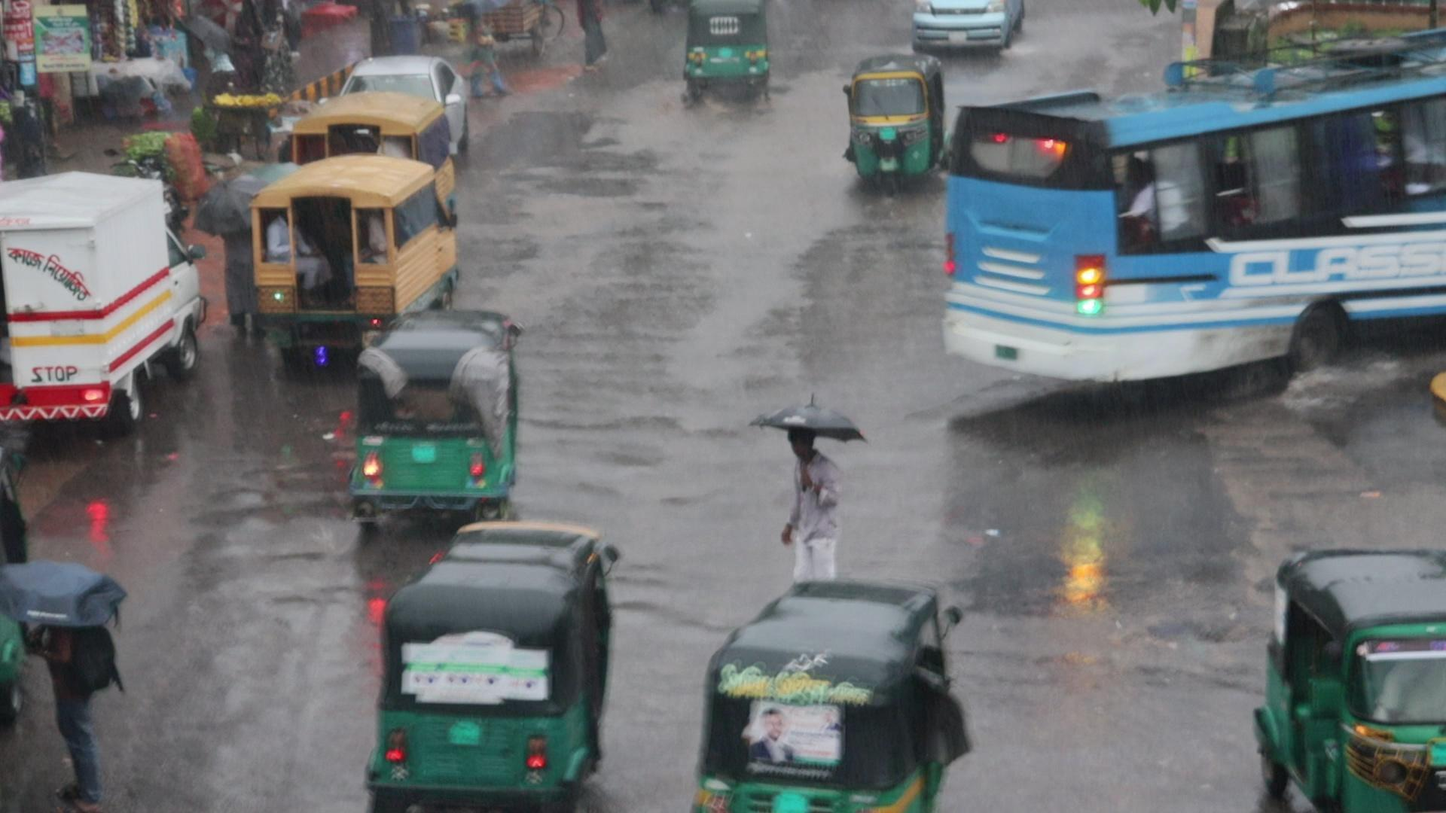Bus: (940, 30, 1446, 387)
Truck: (248, 153, 457, 312)
